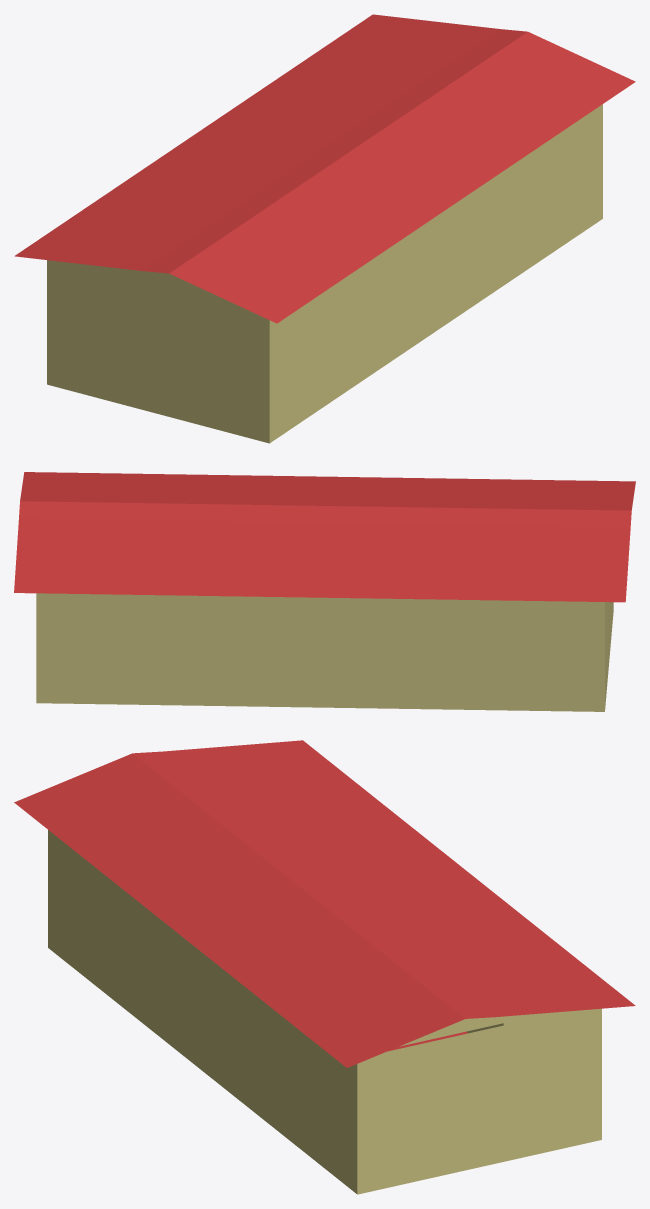
3 views of the same model, one above another, from view 1: azimuth 30°, elevation 25°; view 2: azimuth 150°, elevation 25°; view 3: azimuth 270°, elevation 25° (orthographic). The views are drawn at different scales.
Size of the model in its own units: 31.12 by 24.76 by 7.18.
